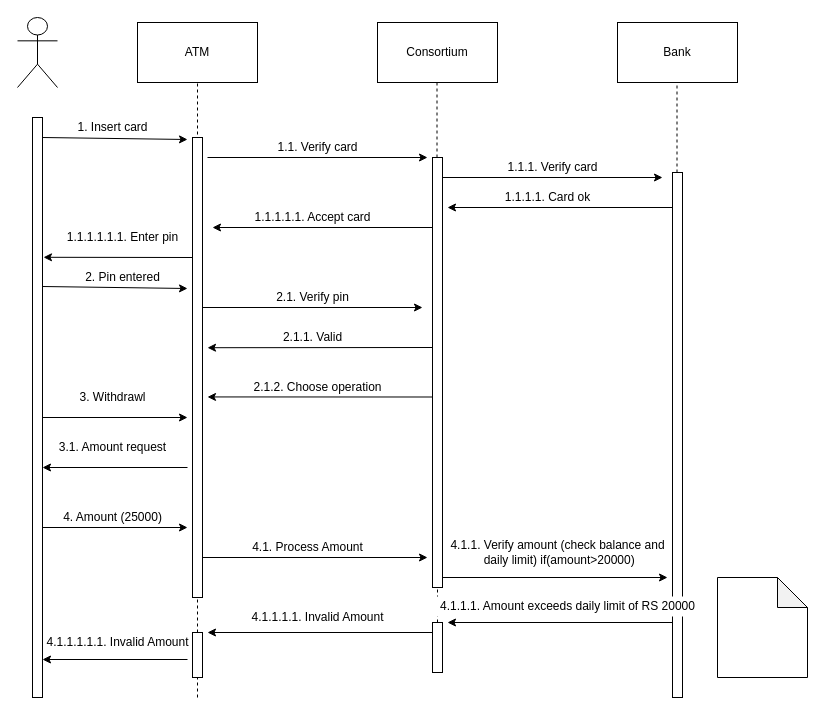
Image size: 825x716. Some labels were removed from this diagram. Here are the shapes that lost their labels. From the top down, the centre of each, then its label:
At pixel 37 52: "User".
At pixel 762 627: "amount > 20000 Display invalid".
